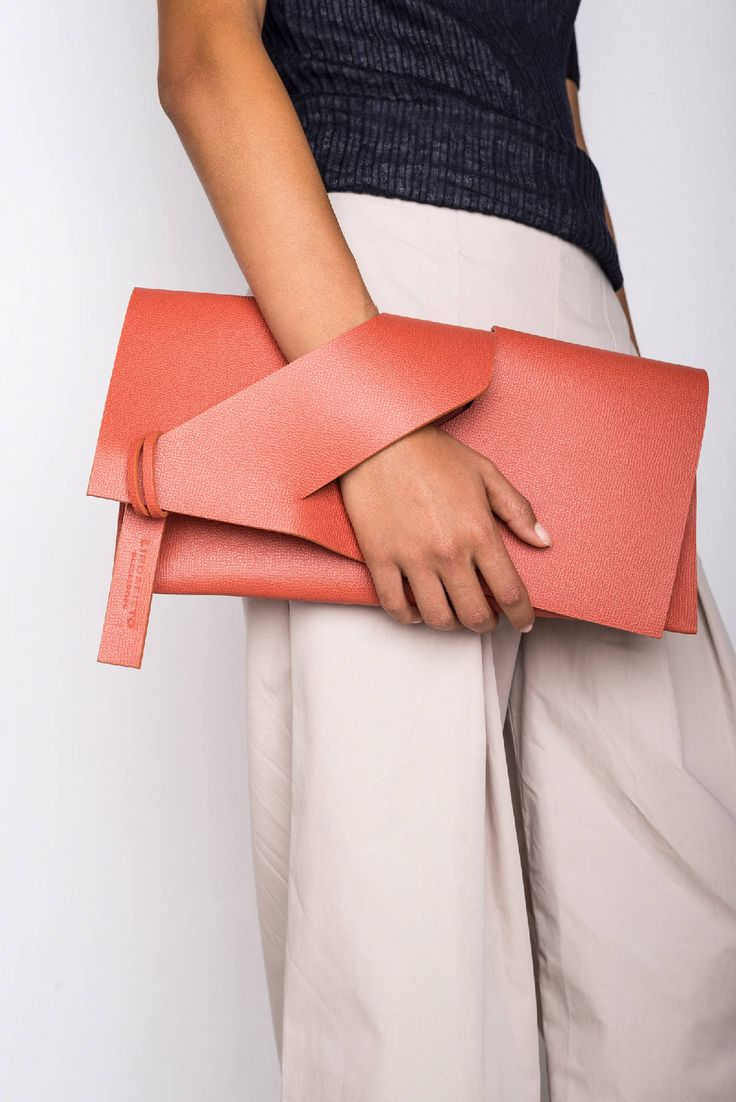cuero: (89, 287, 709, 673)
